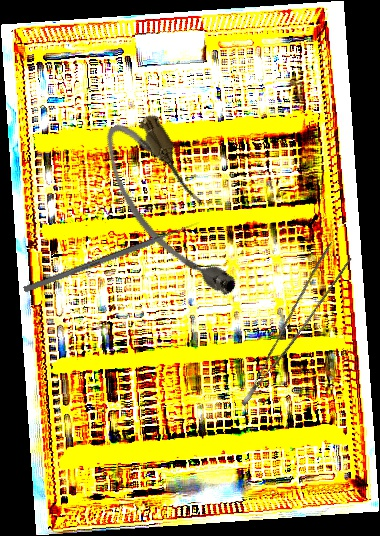Cannula: (90, 105, 251, 317)
Pusher: (22, 219, 202, 294)
Tissue Forceps: (216, 241, 360, 407)
